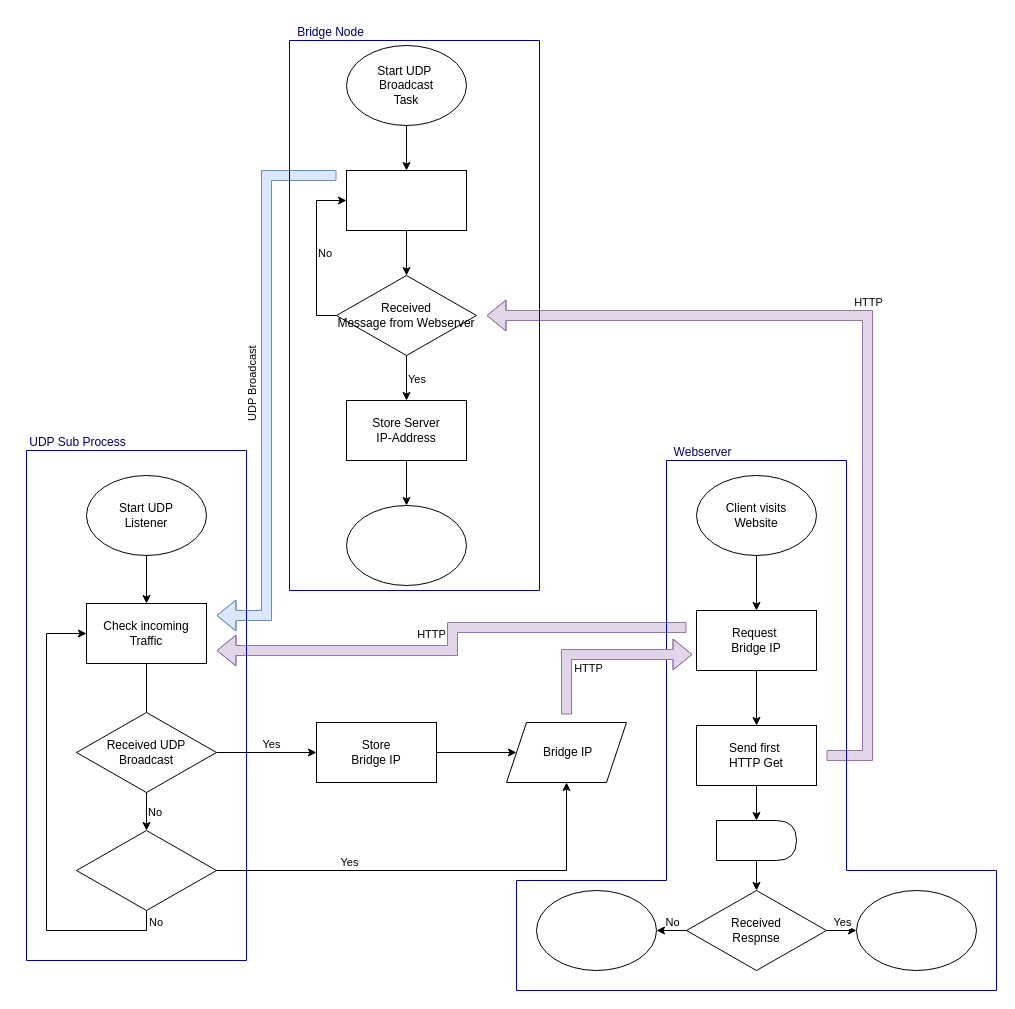
This 1015x1009 diagram has some shape labels left out. The box of each missing label's shape, as (x1, y1, x2, y2) in pixels:
End UDP Broadcast Task: (346, 504, 466, 586)
Output Data on Website: (856, 890, 976, 970)
Output Error on Website: (536, 890, 656, 970)
Received HTTP Request: (76, 830, 216, 910)
Send UDP Broadcast: (346, 170, 466, 230)
Wait for Response: (716, 820, 796, 860)
